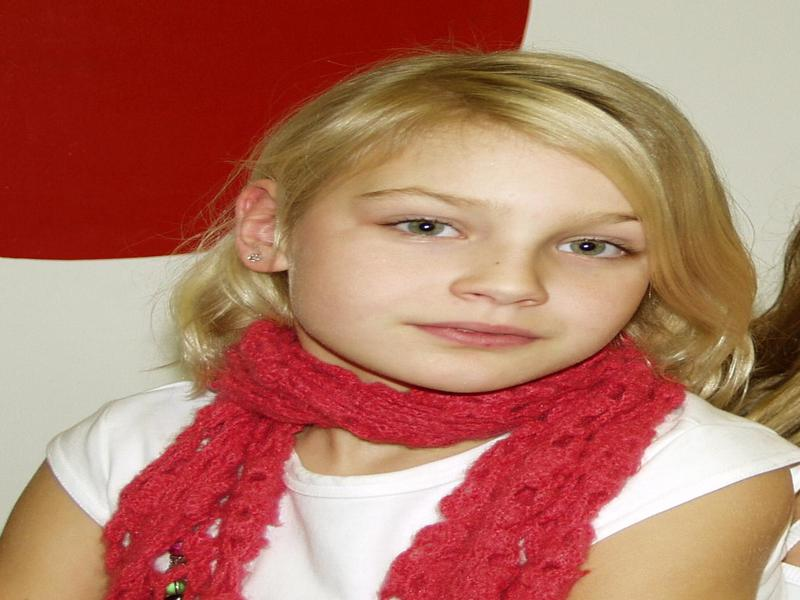person: (7, 47, 800, 599)
